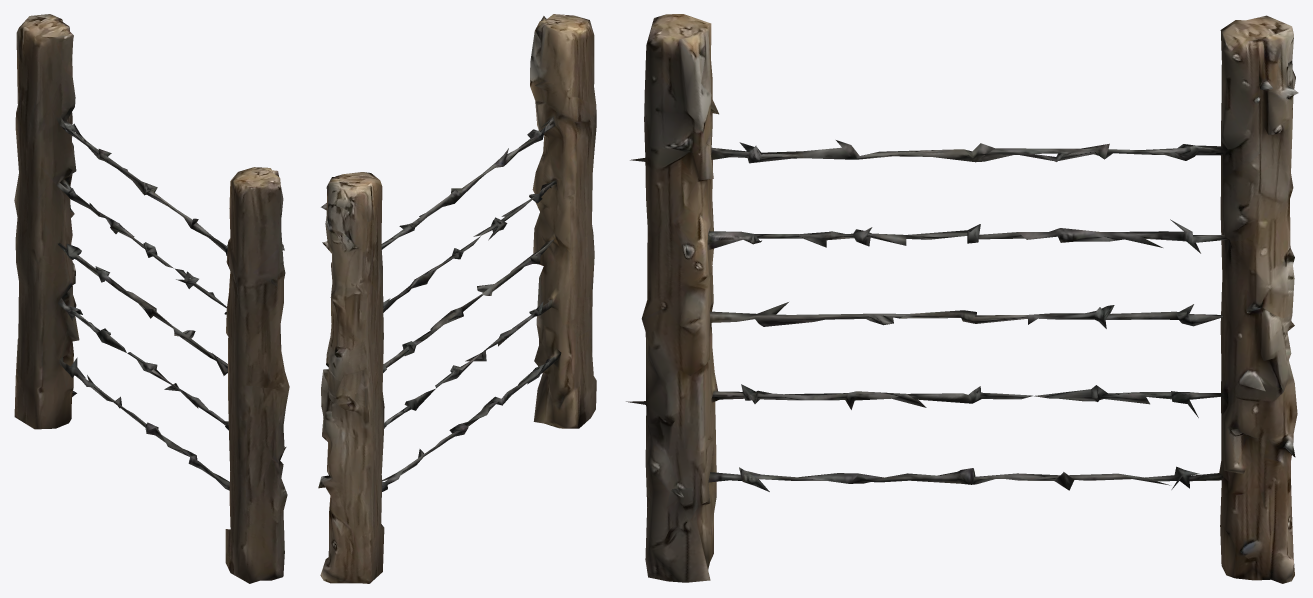
The model's file is e_wirefence.glb.
3 renders of one model, left to right at view 1: azimuth 30°, elevation 25°; view 2: azimuth 150°, elevation 25°; view 3: azimuth 270°, elevation 25°, orthographic. The views are drawn at different scales.
Visible parts, largest first — view 1: tripo_node_cb14f0ff-deac-428c-b38e-279ec528b7b4; view 2: tripo_node_cb14f0ff-deac-428c-b38e-279ec528b7b4; view 3: tripo_node_cb14f0ff-deac-428c-b38e-279ec528b7b4.
Boxes of the visible parts, x1=… form: tripo_node_cb14f0ff-deac-428c-b38e-279ec528b7b4: x1=14, y1=14, x2=289, y2=583; tripo_node_cb14f0ff-deac-428c-b38e-279ec528b7b4: x1=318, y1=14, x2=596, y2=583; tripo_node_cb14f0ff-deac-428c-b38e-279ec528b7b4: x1=626, y1=14, x2=1298, y2=583.
Size of the model in its own units: 0.1276 by 0.8954 by 1.
Materials: 1 (1 with a texture image).
